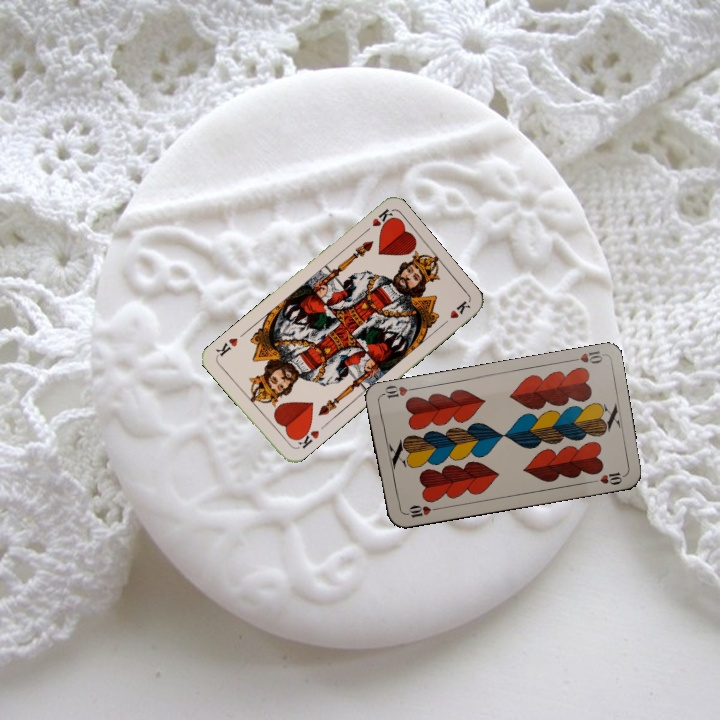H10: (565, 347, 605, 367), (400, 501, 441, 520)
HK: (359, 204, 395, 237), (291, 423, 322, 452)
